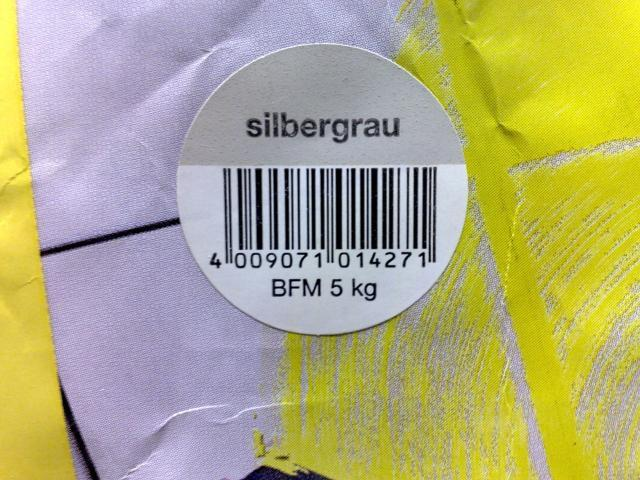Barcode: (204, 163, 447, 274)
